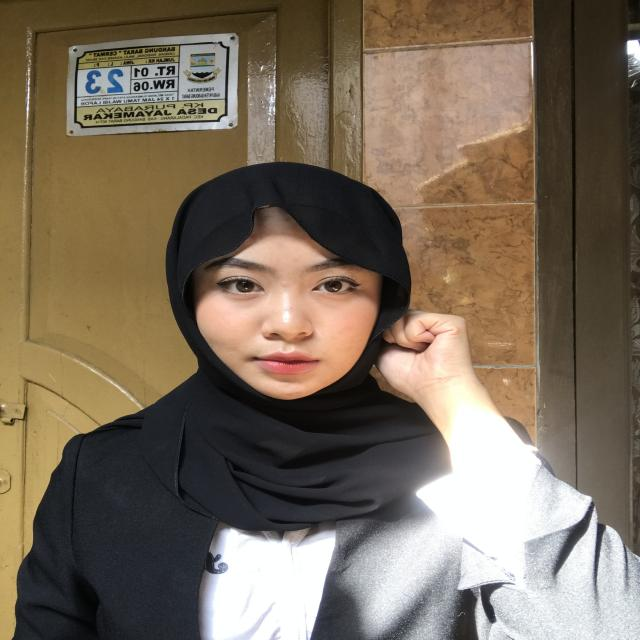ibu: (353, 292, 493, 431)
